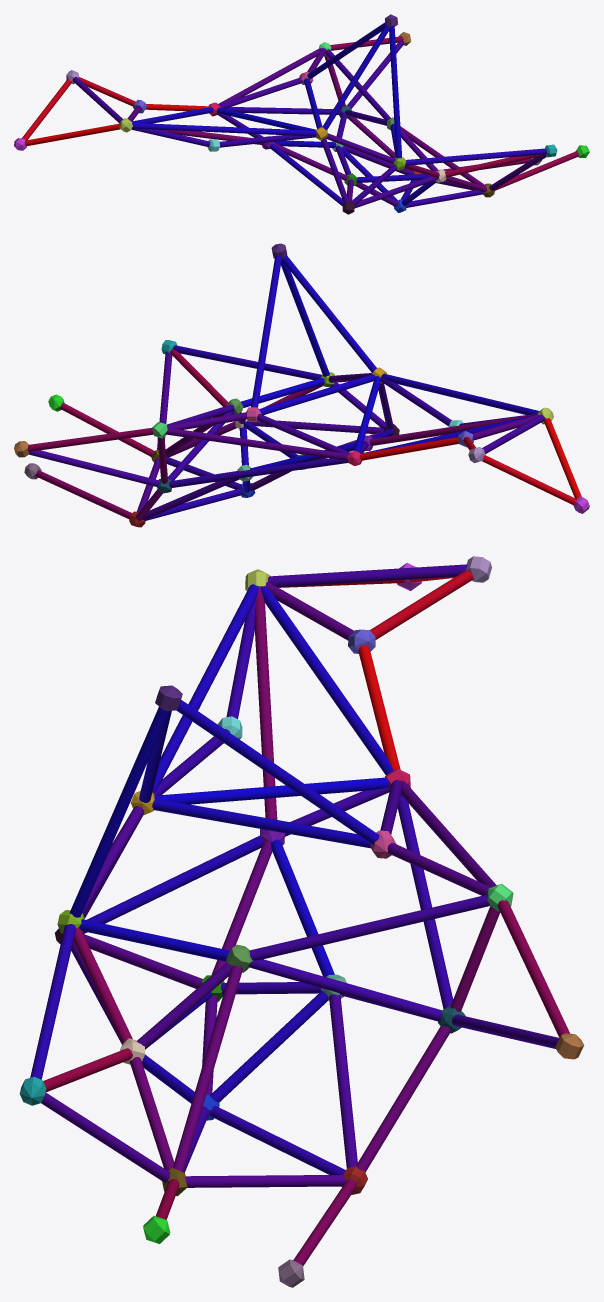
Rendered from fg-00030-skel.obj.
3 views of the same model, one above another, from view 1: azimuth 30°, elevation 25°; view 2: azimuth 150°, elevation 25°; view 3: azimuth 270°, elevation 25° (orthographic). The views are drawn at different scales.
Size of the model in its own units: 0.4029 by 0.1648 by 0.1928.
